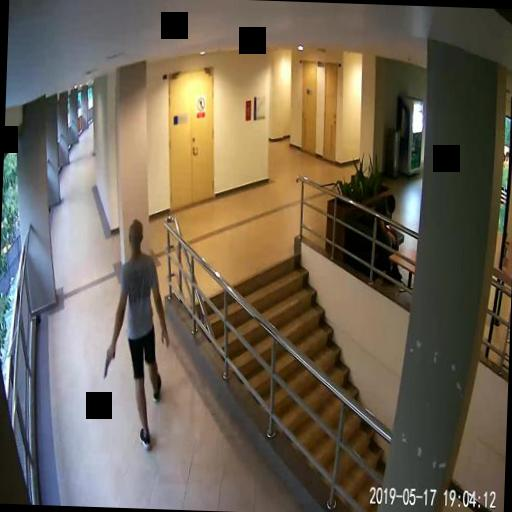Handgun: (102, 345, 114, 375)
